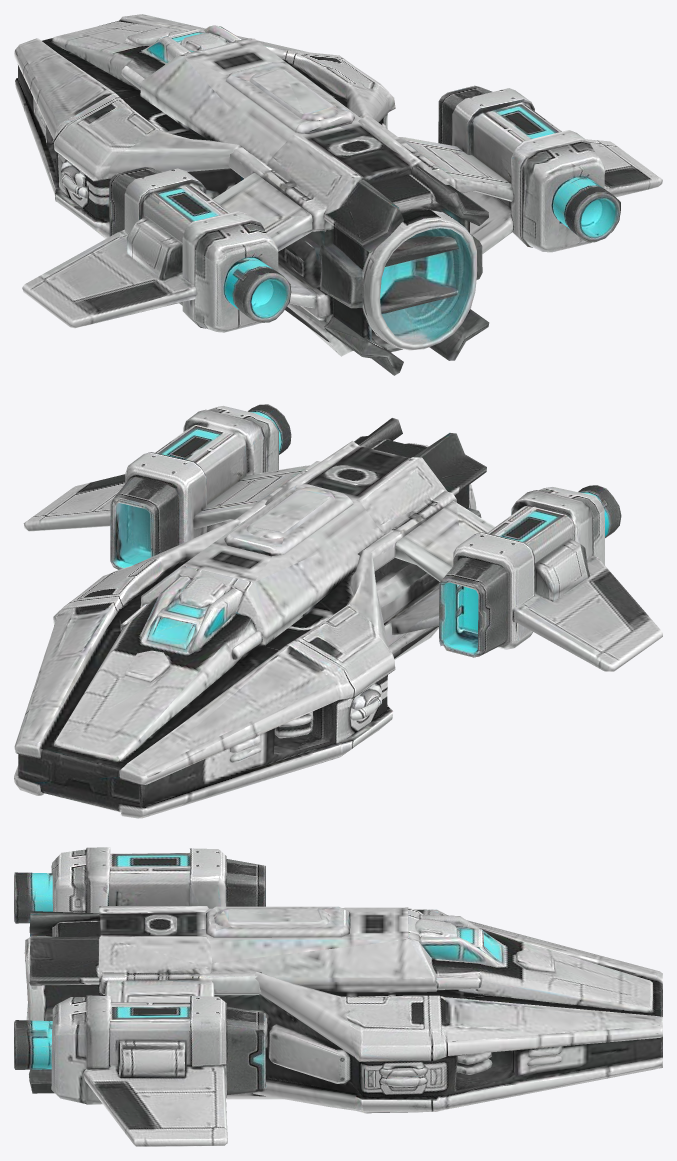
File: utility-ship.glb
3 views of the same model, one above another, from view 1: azimuth 30°, elevation 25°; view 2: azimuth 150°, elevation 25°; view 3: azimuth 270°, elevation 25° (orthographic). The views are drawn at different scales.
Bounding box in the file's own units: 1.64 × 0.4935 × 1.7.
1 material, 1 textured.
